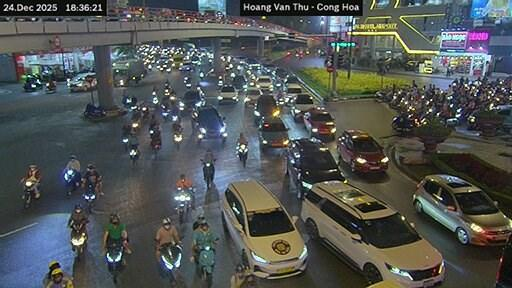motorbike: (160, 243, 185, 287), (195, 243, 214, 286), (173, 187, 194, 224), (106, 243, 122, 282), (240, 248, 255, 287), (70, 223, 86, 259), (390, 115, 418, 131), (83, 179, 95, 212), (201, 158, 214, 188), (64, 170, 80, 194), (24, 180, 35, 207), (84, 103, 105, 116), (150, 131, 160, 156), (236, 144, 246, 166), (22, 79, 41, 90), (131, 109, 140, 131), (128, 144, 138, 163), (173, 129, 182, 149), (374, 90, 390, 100), (123, 95, 135, 108), (160, 104, 169, 121), (45, 81, 56, 93), (141, 106, 149, 120), (121, 133, 128, 149), (148, 124, 159, 131), (217, 76, 223, 86), (152, 90, 156, 103), (185, 80, 191, 88), (198, 71, 204, 79)
